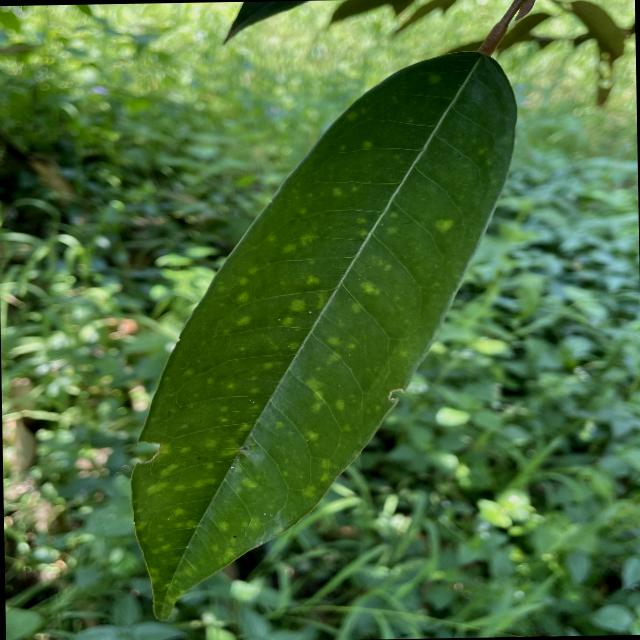Leaf Spot: (116, 41, 532, 626)
